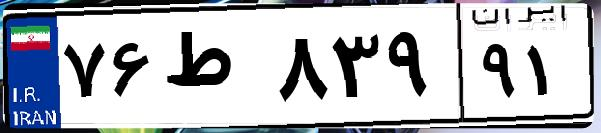1: (525, 38, 570, 115)
3: (330, 28, 385, 110)
6: (110, 28, 158, 98)
7: (57, 26, 110, 100)
8: (270, 28, 330, 110)
9: (385, 28, 445, 110), (475, 38, 525, 113)
ط: (158, 20, 270, 120)
